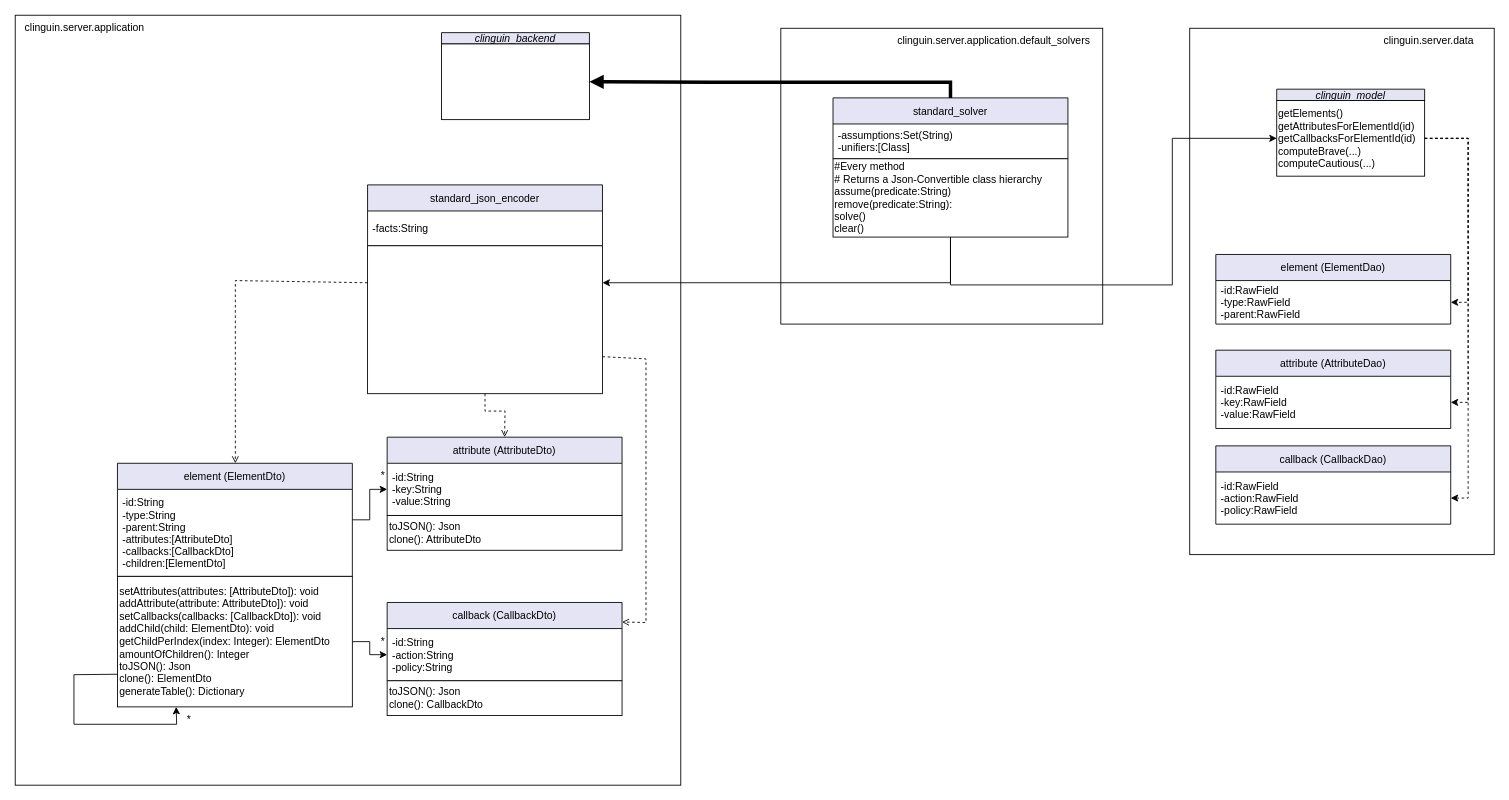
Image size: 1509x800. Some labels were removed from this diagram. Here are the shapes that lost their labels. From the top down, the centre of each, then its label:
At (x=515, y=81): "get(): Json".
At (x=484, y=319): "@classmethod encode(...) @classmethod -generateHierarchy(...)".
